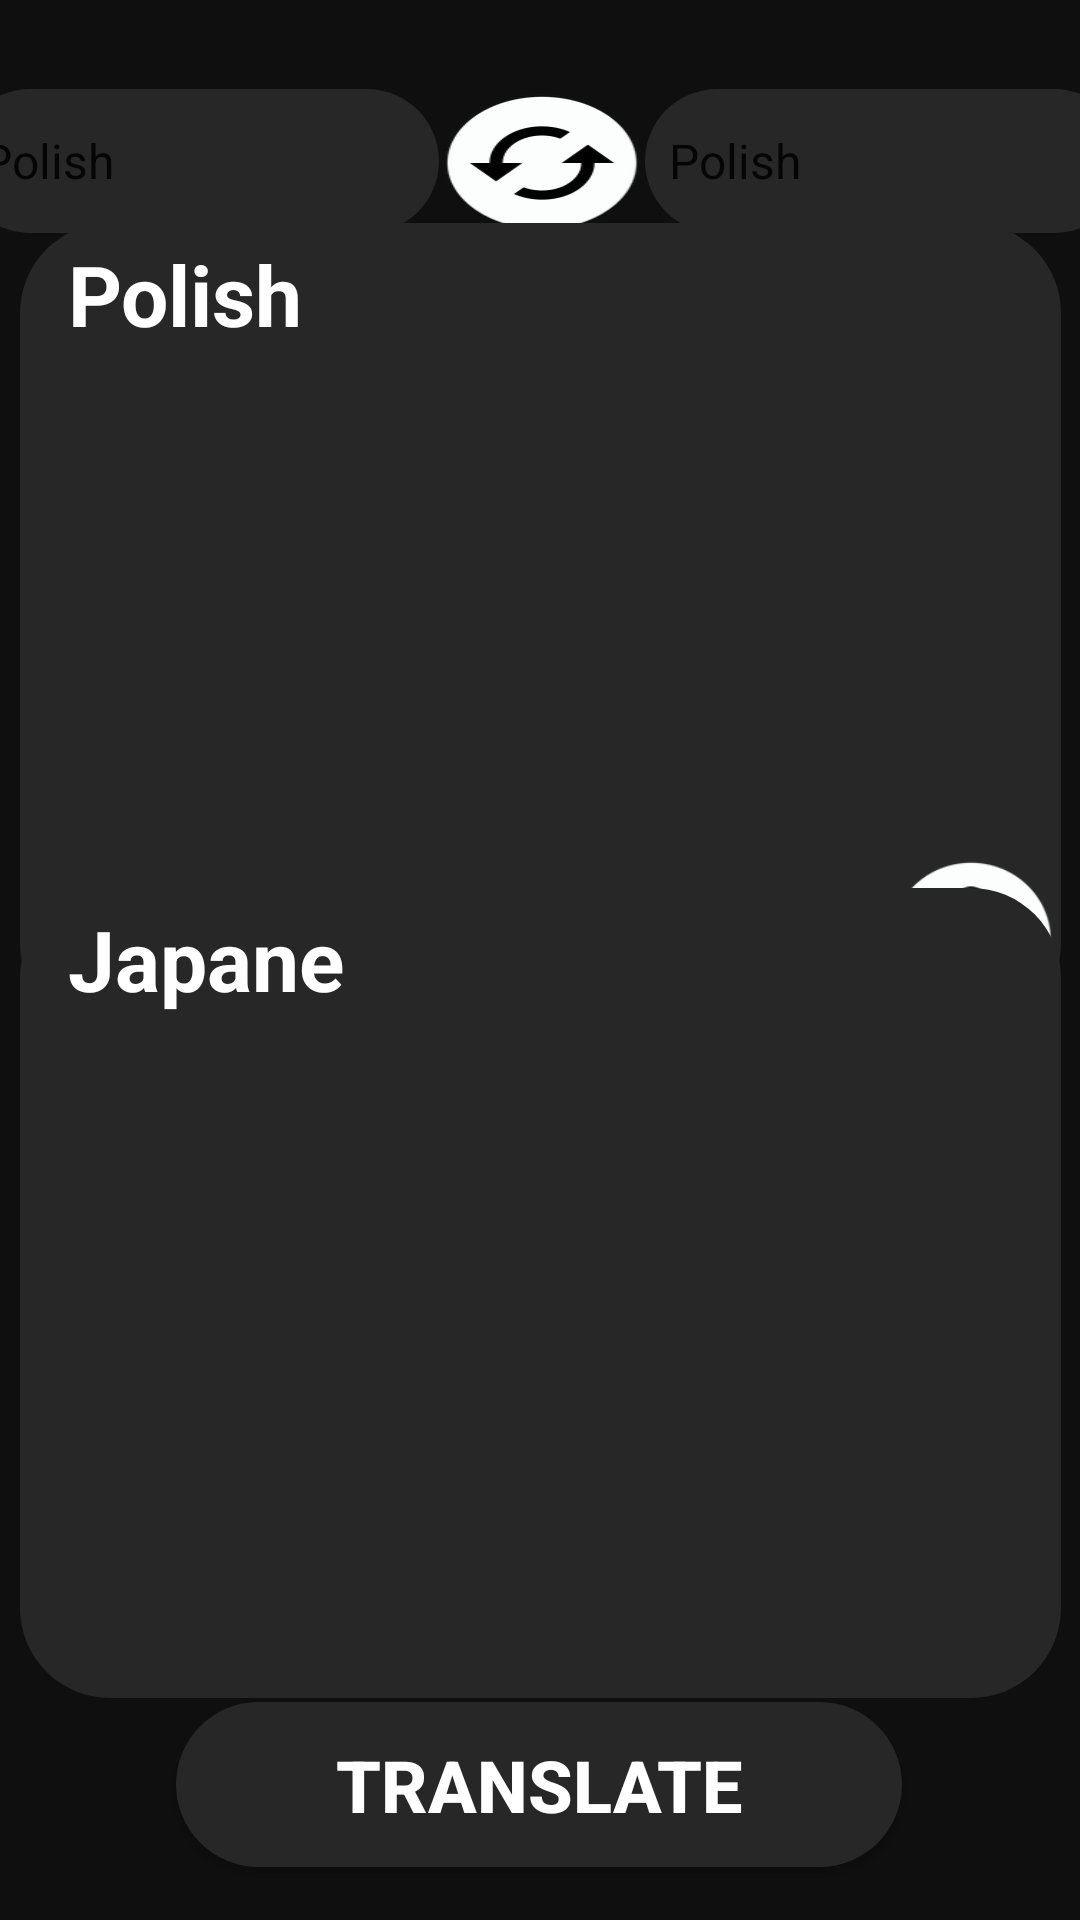

Where icons sit on this 1080 x 1920 app screen, as (x1, y1, x2, y2):
swap: (447, 96, 637, 223)
